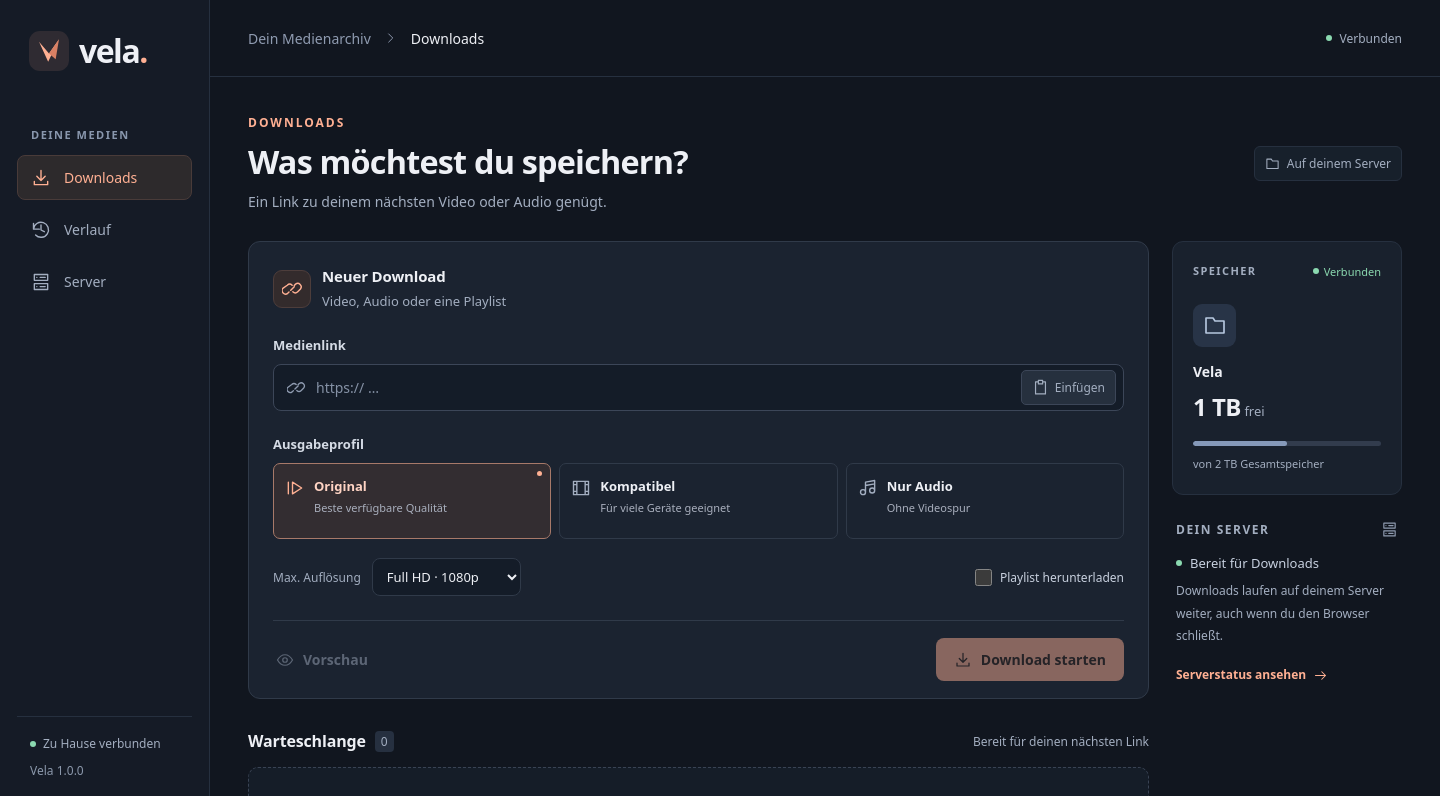
Test: Vela-Arbeitsabläufe › bleibt bei einer abgewiesenen Aktion auf dem Dashboard
This screenshot has width=1440, height=796.
Type "https://example.com/video" into the field labelled "Medienlink" at (663, 388), box x1=316 y1=370 x2=1011 y2=405
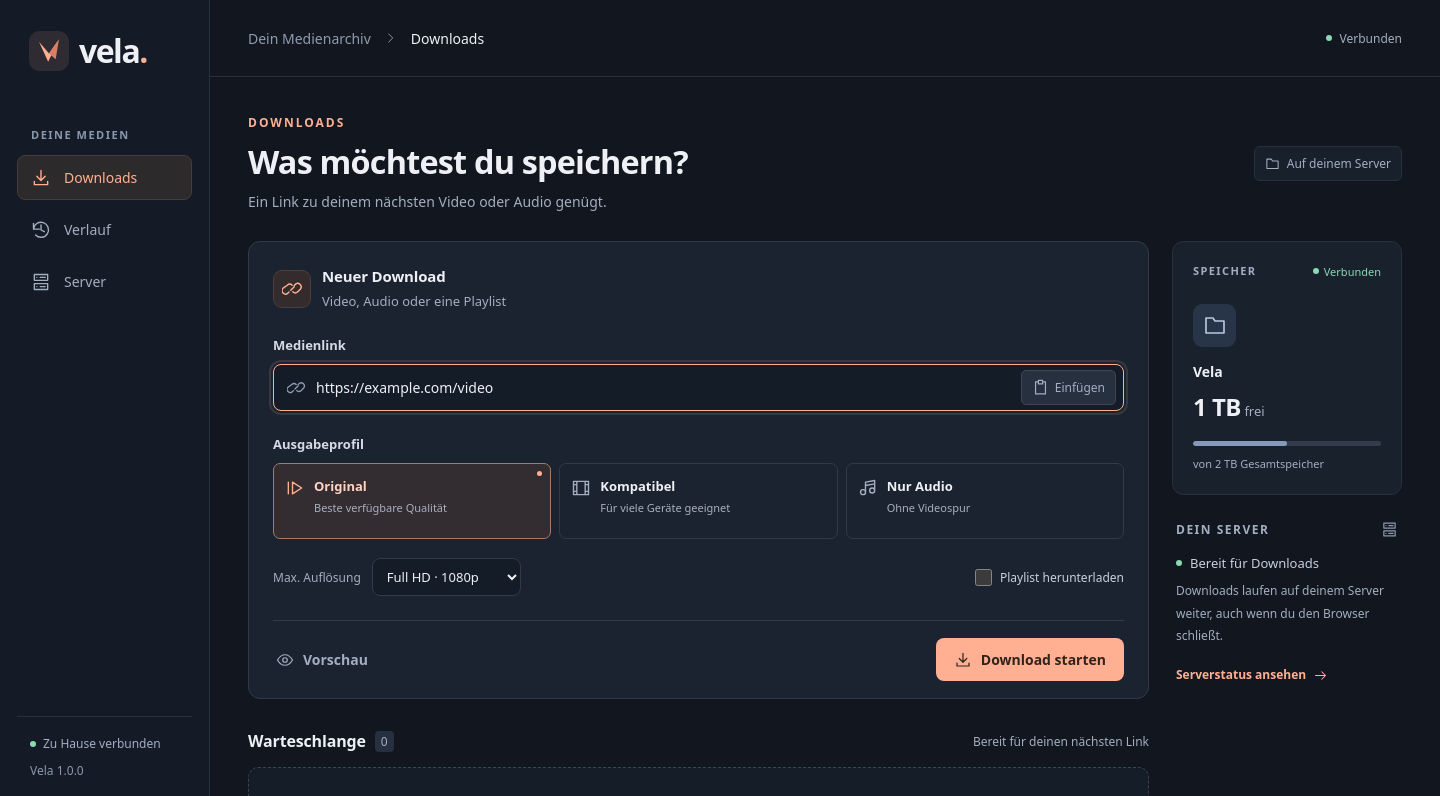
Click the button "Download starten" at (1030, 660), box x1=936 y1=638 x2=1124 y2=681
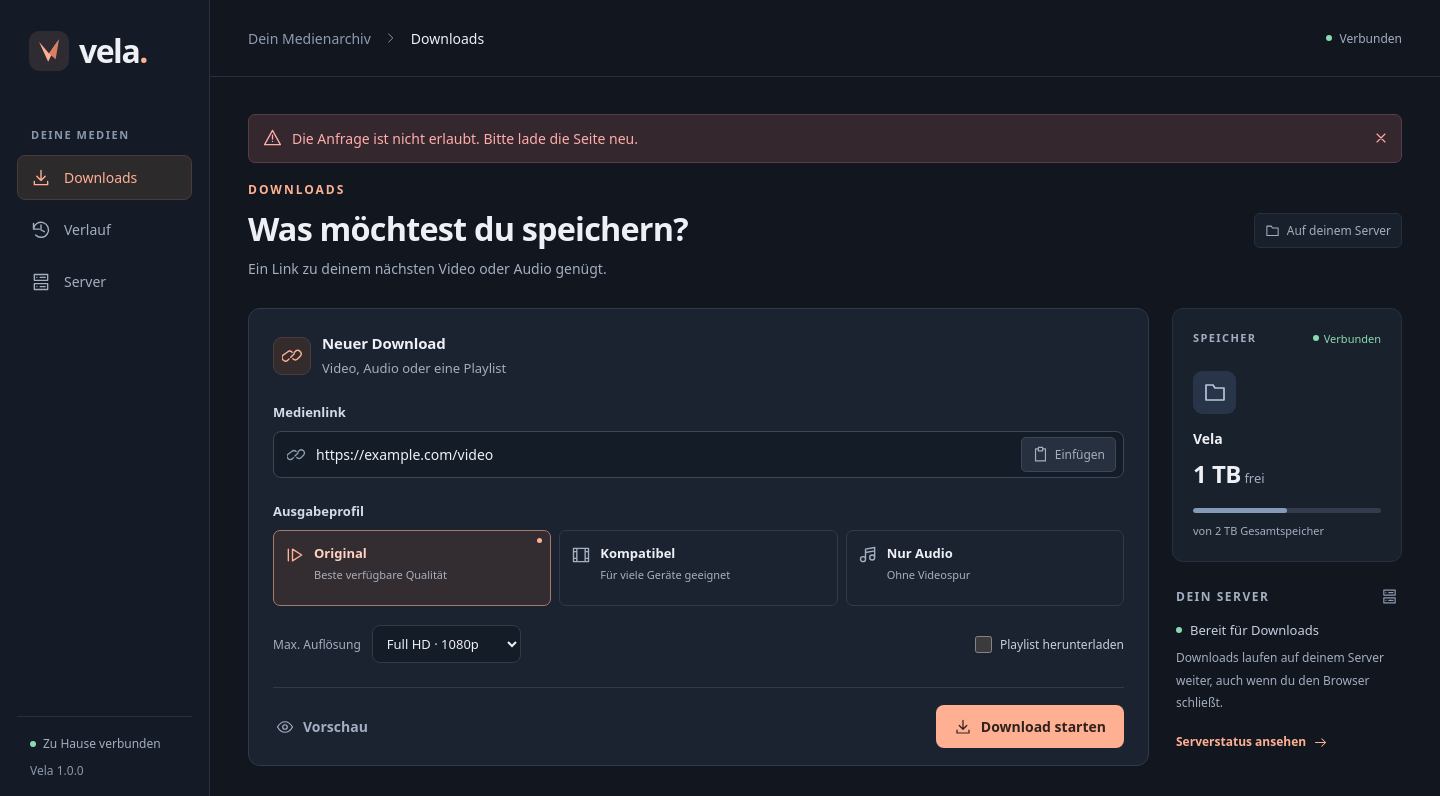
Expected: the heading "Was möchtest du speichern?" is shown, x1=248 y1=209 x2=688 y2=248
Expected: the text "Die Anfrage ist nicht erlaubt. Bitte lade die Seite neu." is shown, x1=292 y1=129 x2=638 y2=148
